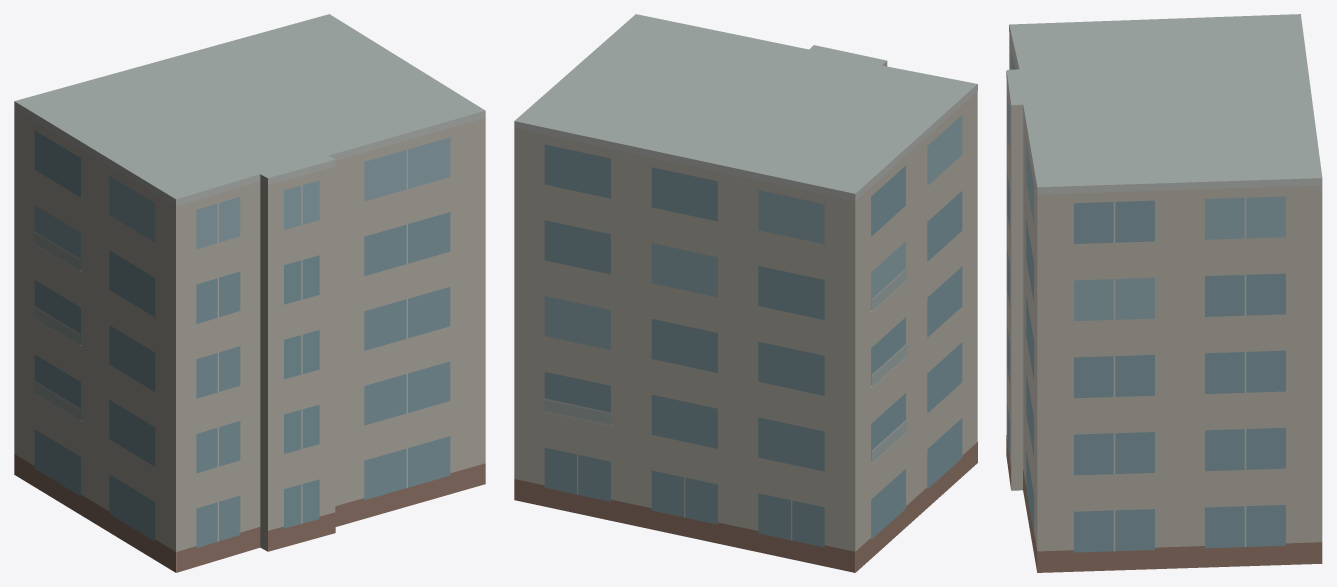
Rendered from survey-upis-32950156.glb.
3 renders of one model, left to right at view 1: azimuth 30°, elevation 25°; view 2: azimuth 150°, elevation 25°; view 3: azimuth 270°, elevation 25°, orthographic. The views are drawn at different scales.
Parts seen in each view (by area): view 1: survey-upis-32950156.tmp; view 2: survey-upis-32950156.tmp; view 3: survey-upis-32950156.tmp.
Part boxes in pixels (x1,y1,x2,y2): survey-upis-32950156.tmp: (14, 14, 485, 572); survey-upis-32950156.tmp: (514, 14, 977, 572); survey-upis-32950156.tmp: (1006, 14, 1322, 572).
Size of the model in its own units: 12.44 by 12.9 by 9.59.
